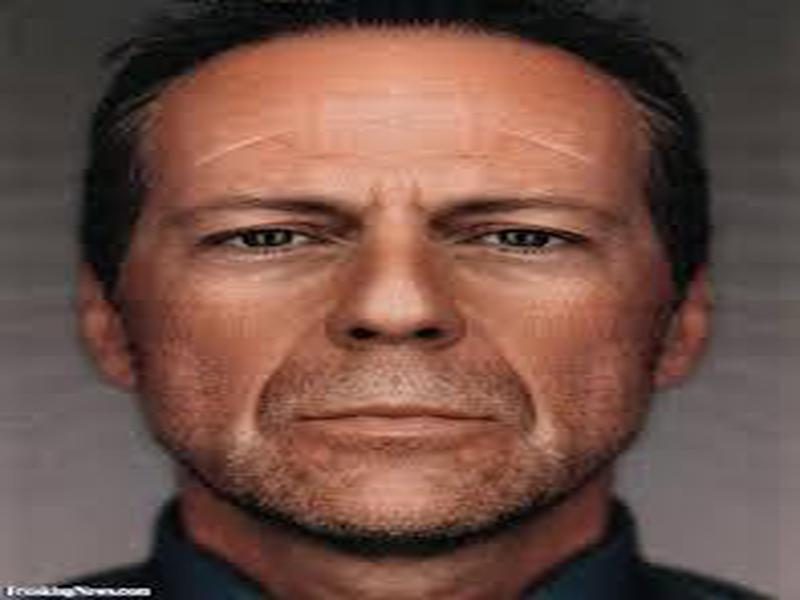without_mask: (136, 99, 665, 540)
